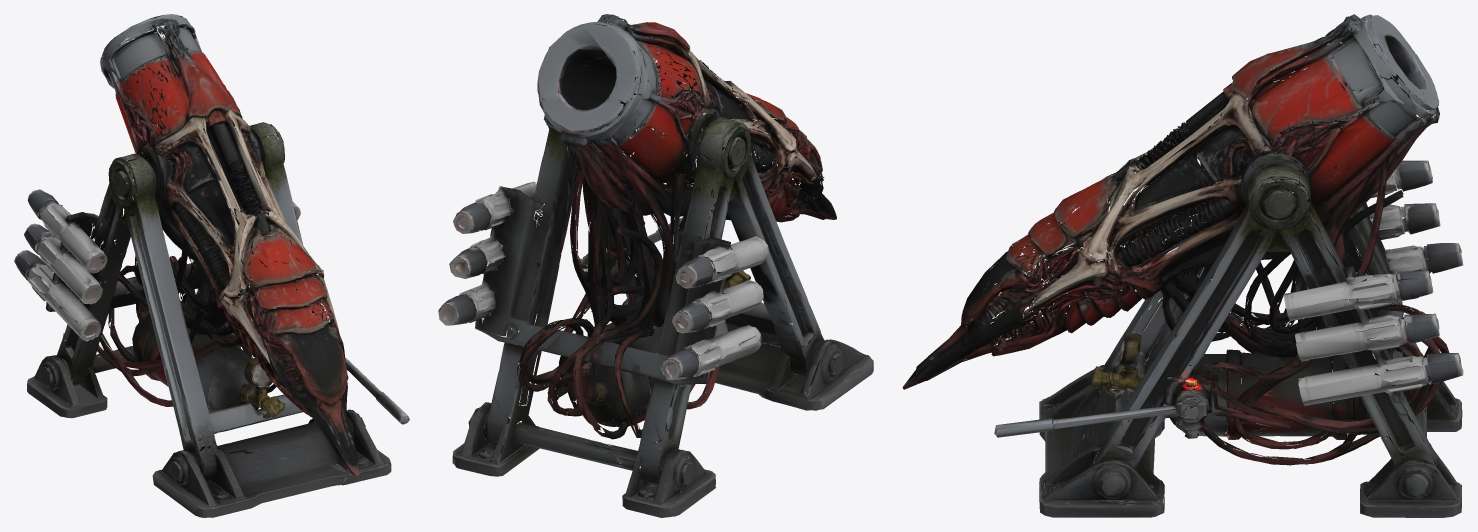
File: chasm_abyss_sounding_mortar.glb
The picture shows the model from 3 angles, left to right: view 1: azimuth 30°, elevation 25°; view 2: azimuth 150°, elevation 25°; view 3: azimuth 270°, elevation 25°; orthographic projection. The views are drawn at different scales.
Visible parts, largest first — view 1: node_0; view 2: node_0; view 3: node_0.
Part boxes in pixels (<box>): node_0: <box>14,14,409,517</box>; node_0: <box>438,14,873,517</box>; node_0: <box>902,14,1463,517</box>.
Size of the model in its own units: 0.4568 by 0.7559 by 0.8645.
1 material, 1 textured.
